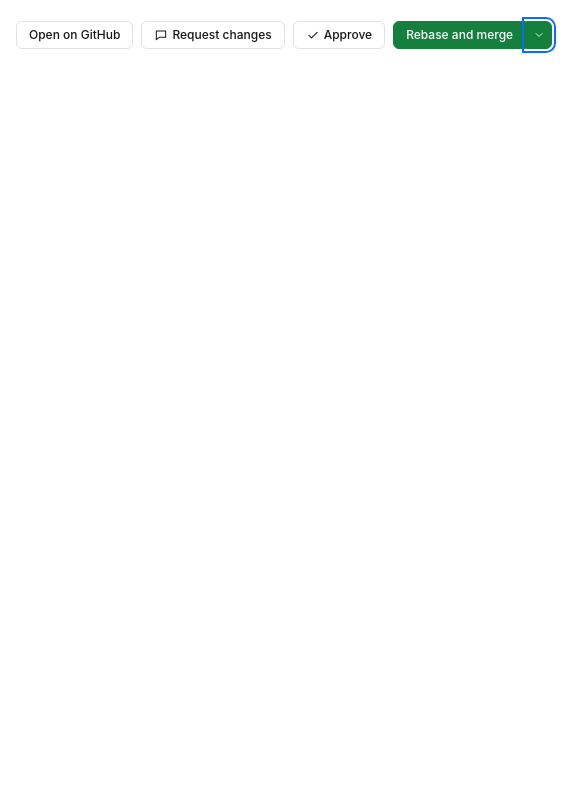
Test: Merge › preselects the last method, lets another be chosen, and merges with it
The width and height of the screenshot is (573, 812).
Earlier steps of the test are not shown.
(page scrolled)
Click the button "Rebase and merge" at (460, 35), box [393,21,526,49]
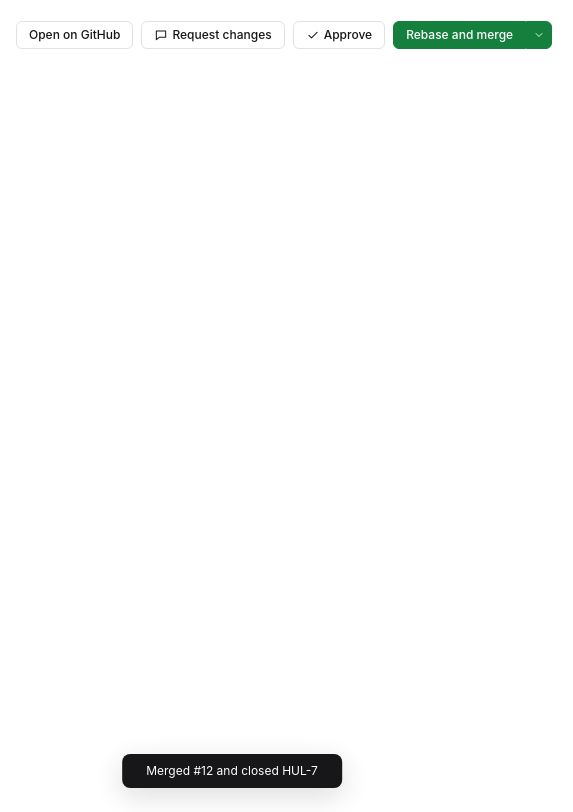
Result: the message reads "Merged #12 and closed HUL-7" at [146,763,318,778]
